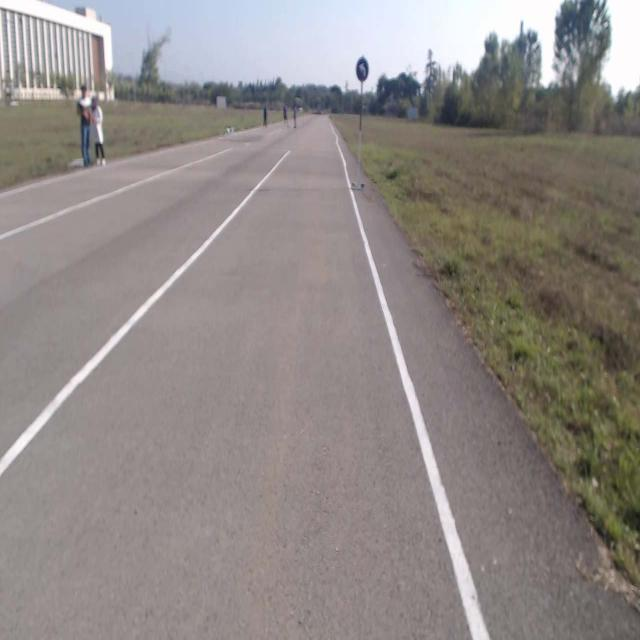sol: (356, 58, 368, 82)
